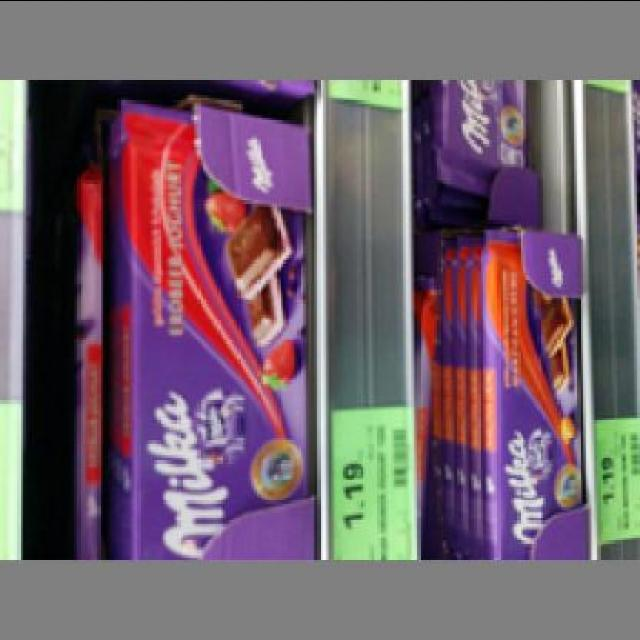Chocolate bar: (120, 104, 309, 566), (477, 231, 580, 560)
